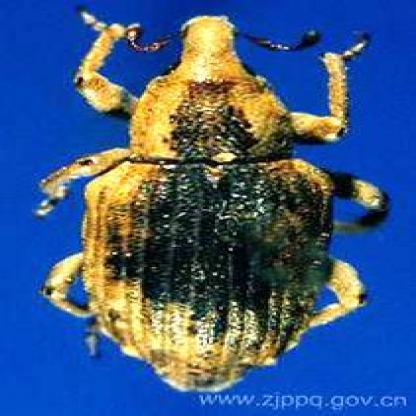rice-bug: (54, 18, 371, 390)
